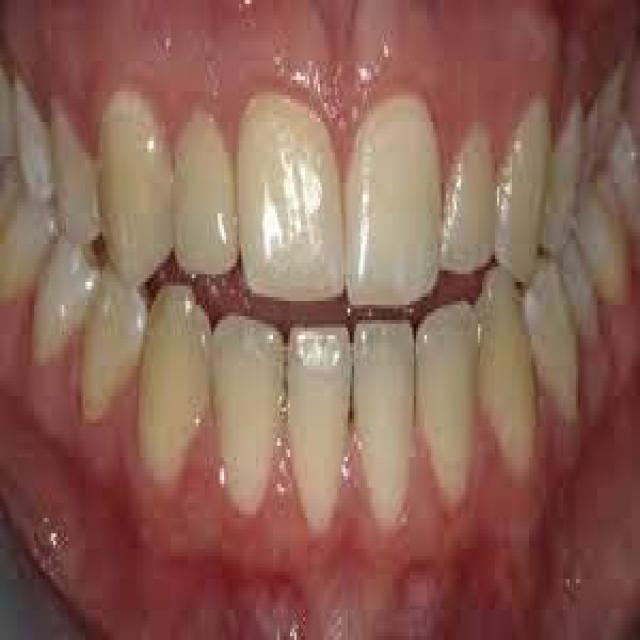tooth: (331, 99, 442, 297), (254, 99, 331, 282), (288, 316, 352, 522), (418, 309, 495, 461), (220, 312, 279, 503), (169, 107, 241, 259), (141, 305, 200, 484), (357, 316, 408, 522), (21, 236, 111, 351), (444, 122, 493, 274), (501, 103, 544, 263), (104, 122, 158, 244), (81, 297, 141, 396), (544, 95, 578, 244), (47, 95, 87, 221), (584, 194, 640, 278), (529, 278, 585, 354), (2, 213, 75, 270), (495, 282, 518, 461), (8, 84, 41, 141), (563, 259, 593, 316), (600, 69, 614, 141), (627, 110, 634, 202), (585, 106, 595, 164), (4, 160, 15, 210), (2, 72, 9, 141)
